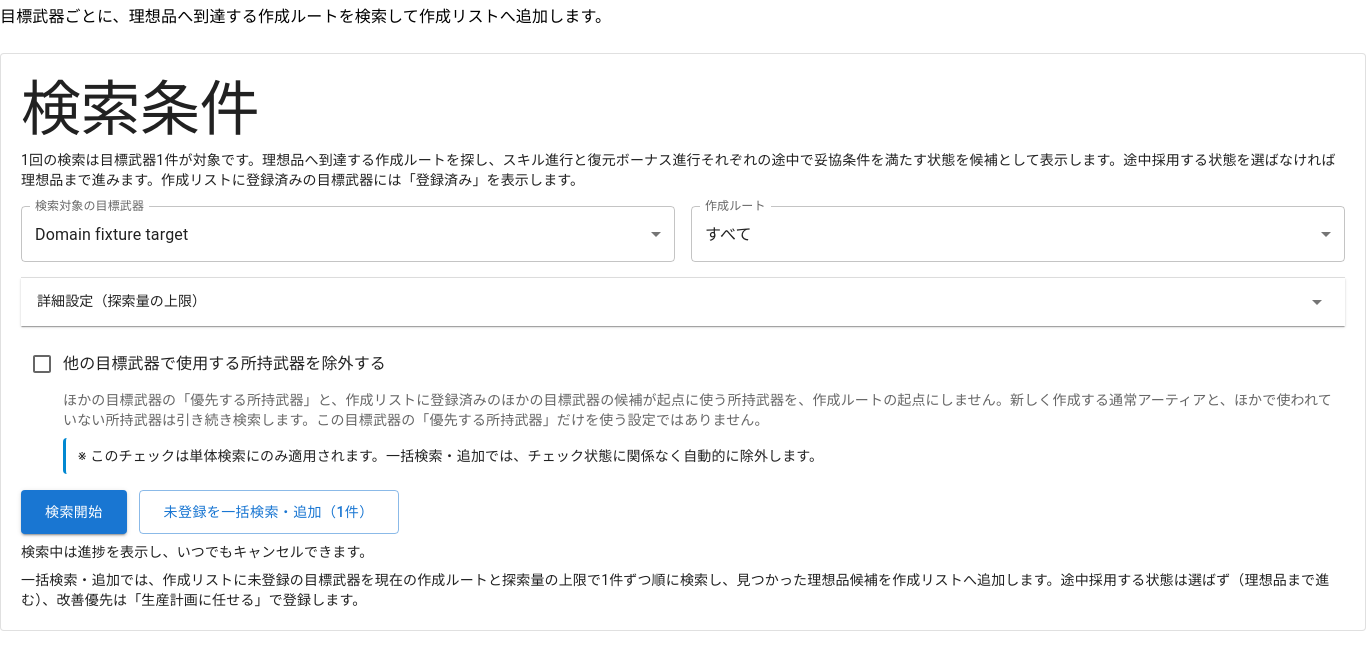
Test case: SearchPage › clears the searching state and shows the message on a native Worker failure
Click the button "検索開始". click: (74, 512)
box: [21,490,127,534]
(page scrolled)
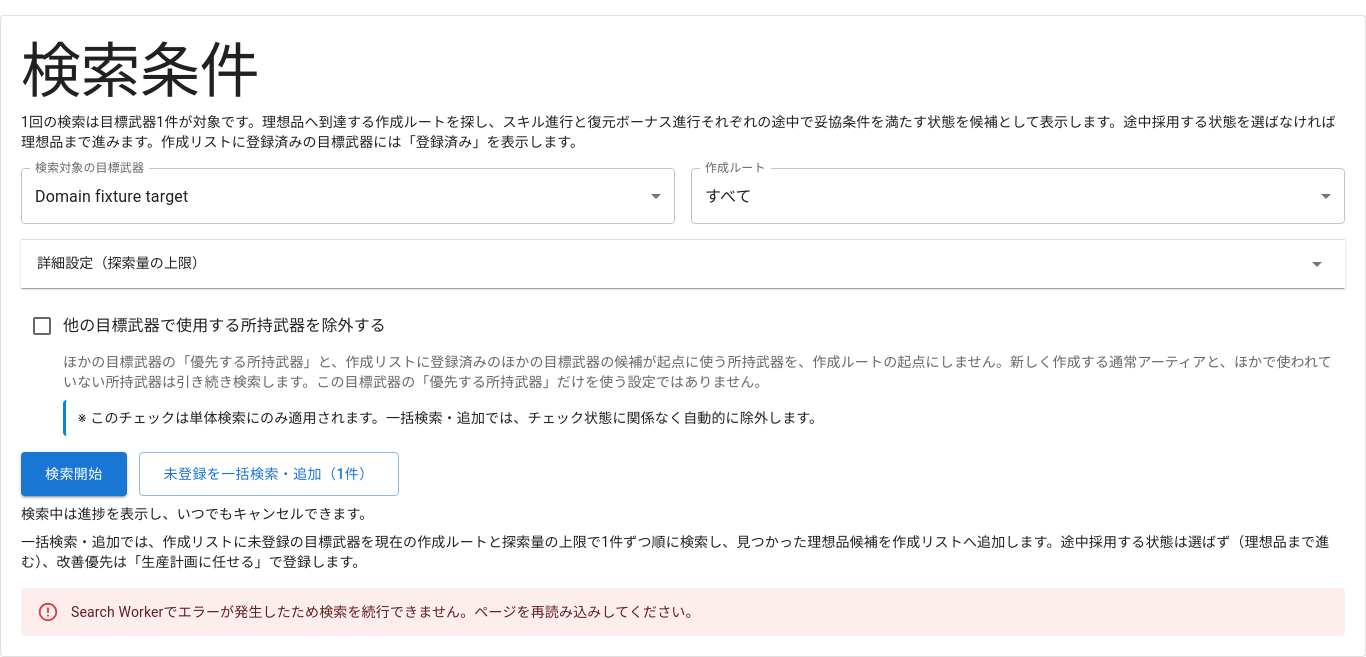
Expected: the text "Search Workerでエラーが発生したため検索を続行できません。ページを再読み込みしてください。" is shown, [71,604,700,620]
